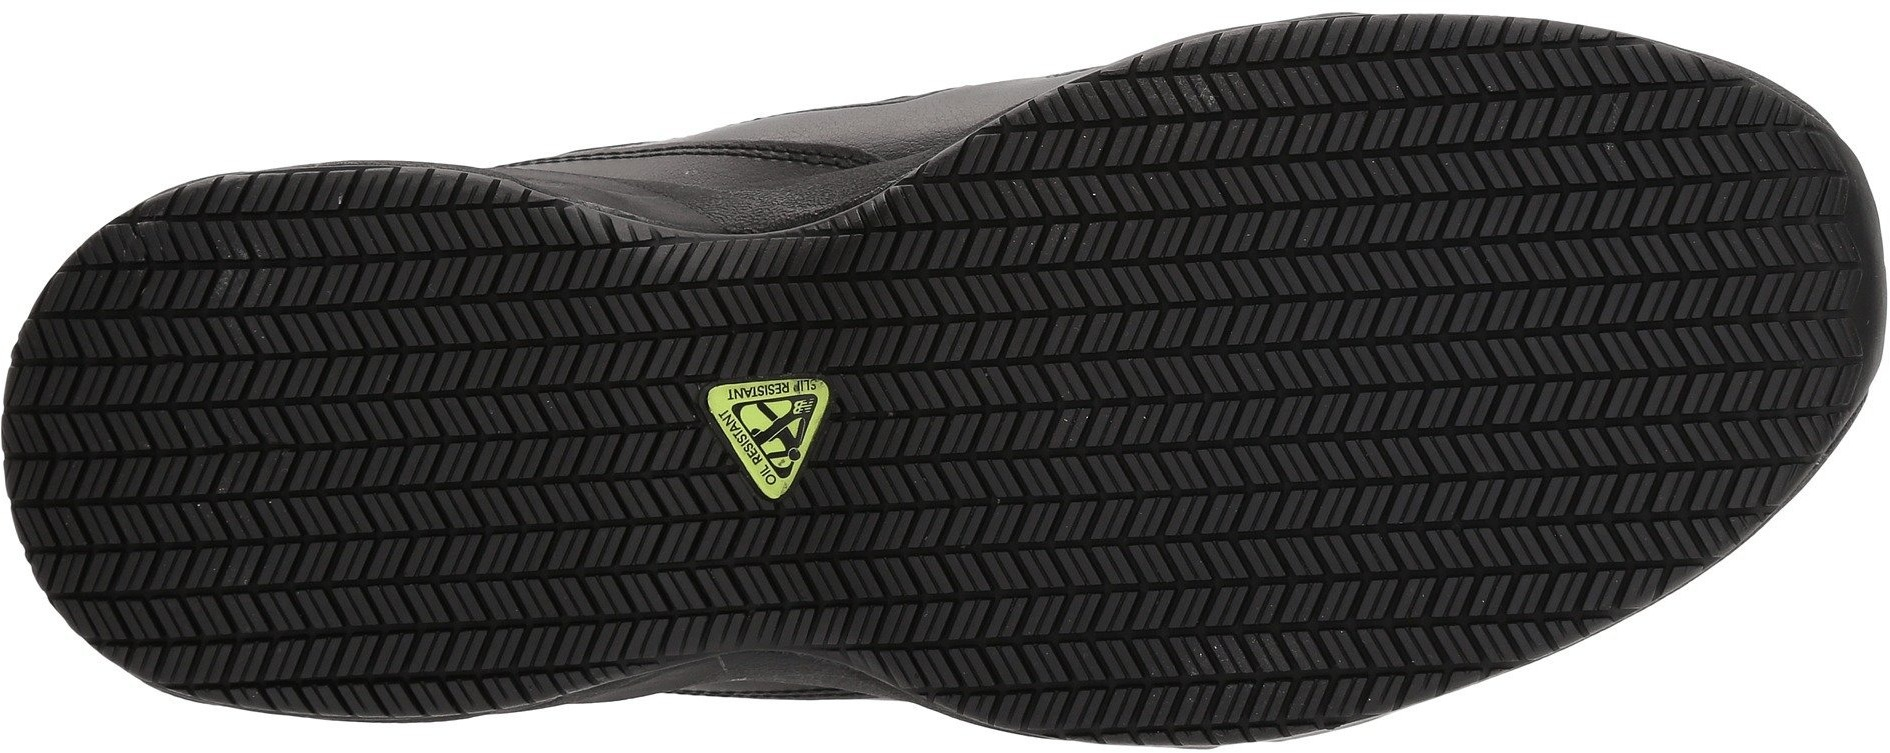chevron: (847, 16, 1877, 752), (7, 164, 716, 726)
